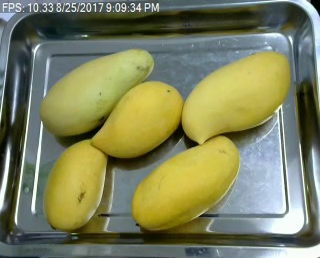Mango: (128, 135, 239, 234), (179, 50, 291, 146), (39, 46, 156, 137), (92, 80, 183, 157), (43, 138, 112, 229)
